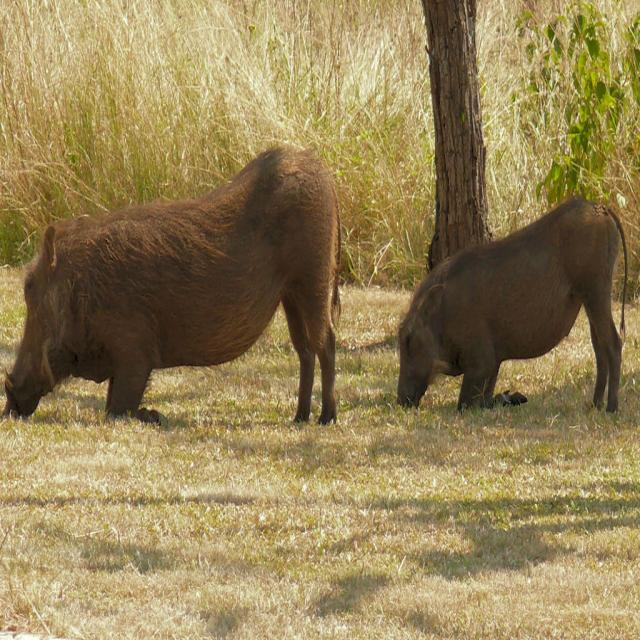Pig: (3, 144, 341, 426), (397, 195, 628, 414)
